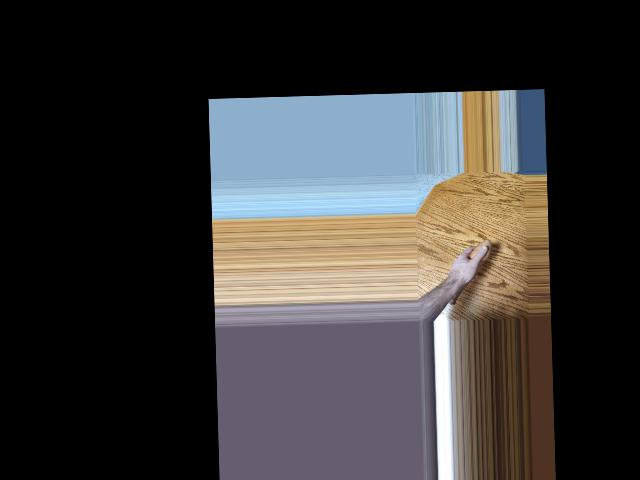sweet_potato: (448, 238, 494, 306)
